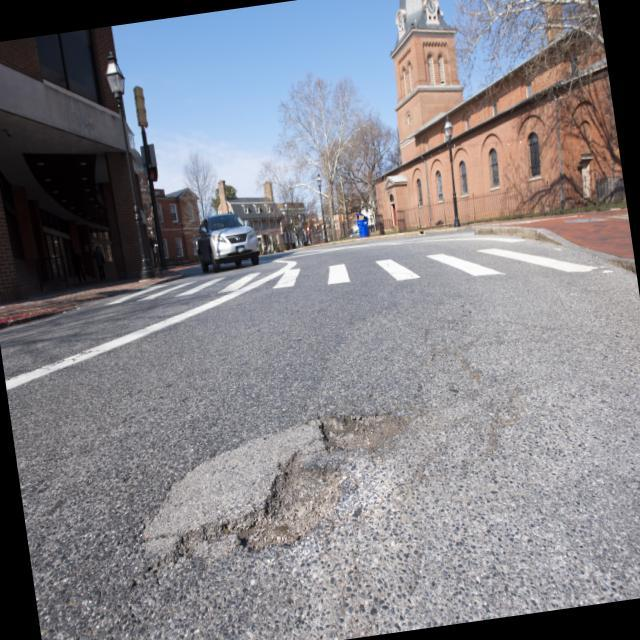Pothole: (228, 461, 352, 552), (316, 383, 425, 461)
